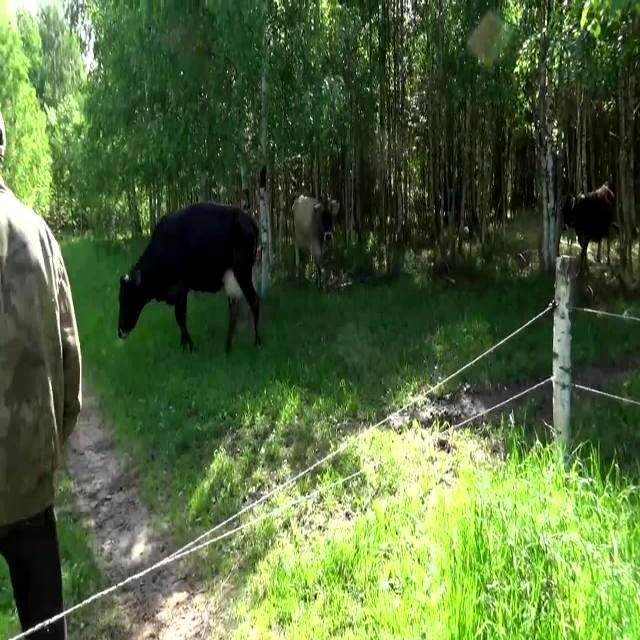COW: (118, 204, 260, 351)
